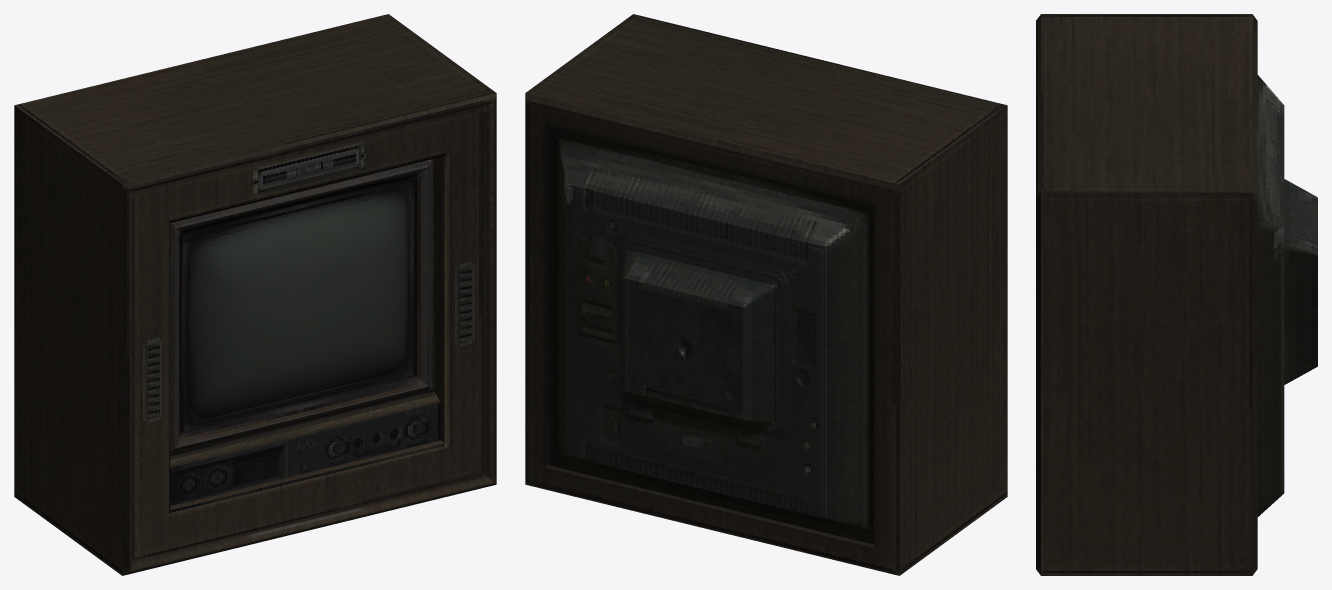
3 renders of one model, left to right at view 1: azimuth 30°, elevation 25°; view 2: azimuth 150°, elevation 25°; view 3: azimuth 270°, elevation 25°, orthographic. The views are drawn at different scales.
Parts seen in each view (by area): view 1: tv_mp_1_1; view 2: tv_mp_1_1; view 3: tv_mp_1_1.
Boxes of the visible parts, x1,y1,x2,y2 form: tv_mp_1_1: (14,14,496,575); tv_mp_1_1: (525,14,1007,575); tv_mp_1_1: (1036,14,1317,575).
Size of the model in its own units: 0.63 by 0.63 by 0.42.
Materials: 2 (2 with a texture image).
